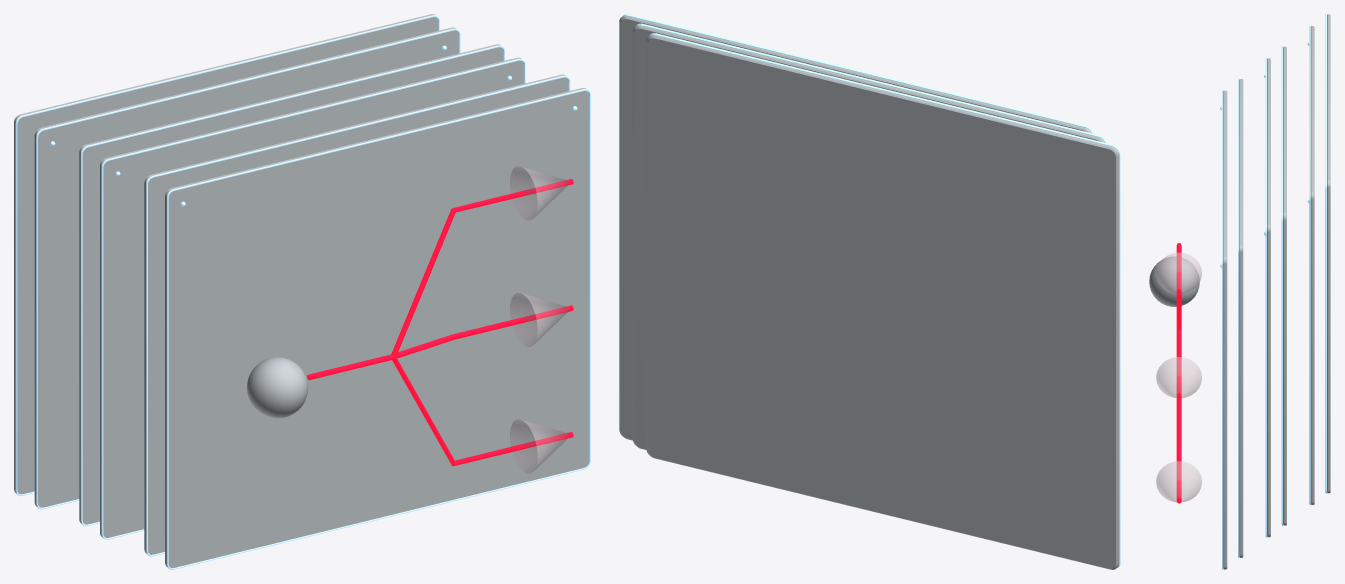
File: 27-scenario-planning.glb
3 views of the same model, side by side, from view 1: azimuth 30°, elevation 25°; view 2: azimuth 150°, elevation 25°; view 3: azimuth 270°, elevation 25° (orthographic). The views are drawn at different scales.
Parts seen in each view (by area): view 1: BC thin clear technical glass, BC cool glass edge, BC subtle ruby technical glass, BC ruby signal edge; view 2: BC thin clear technical glass, BC cool glass edge; view 3: BC thin clear technical glass, BC cool glass edge, BC subtle ruby technical glass, BC ruby signal edge.
Boxes of the visible parts, <box> form: BC thin clear technical glass: <box>14,14,589,568</box>; BC cool glass edge: <box>15,15,590,569</box>; BC subtle ruby technical glass: <box>510,166,568,473</box>; BC ruby signal edge: <box>307,179,573,466</box>; BC thin clear technical glass: <box>619,15,1119,569</box>; BC cool glass edge: <box>623,14,1120,567</box>; BC thin clear technical glass: <box>1149,14,1330,569</box>; BC cool glass edge: <box>1220,14,1326,569</box>; BC subtle ruby technical glass: <box>1156,252,1201,502</box>; BC ruby signal edge: <box>1176,243,1181,503</box>.
Bounding box in the file's own units: 2.12 × 1.7 × 0.789.
